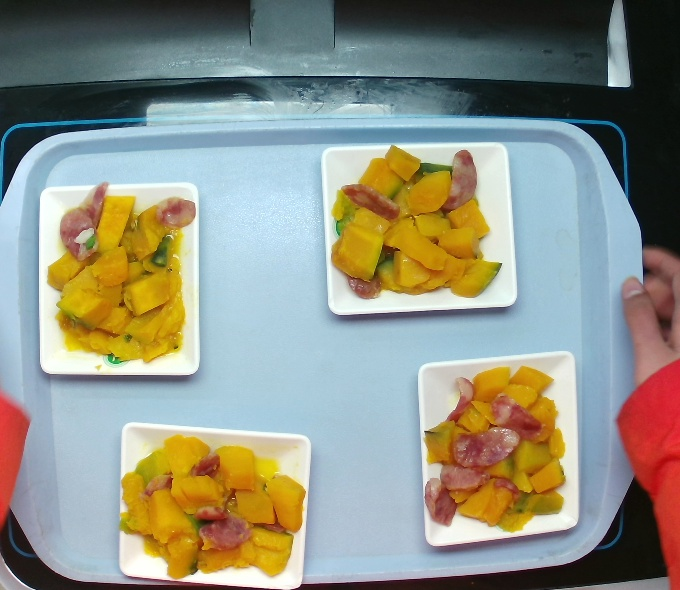wcq-NanGuaChaoXiangChang: (319, 132, 509, 312), (113, 422, 312, 589), (45, 180, 200, 374), (414, 361, 565, 536)
